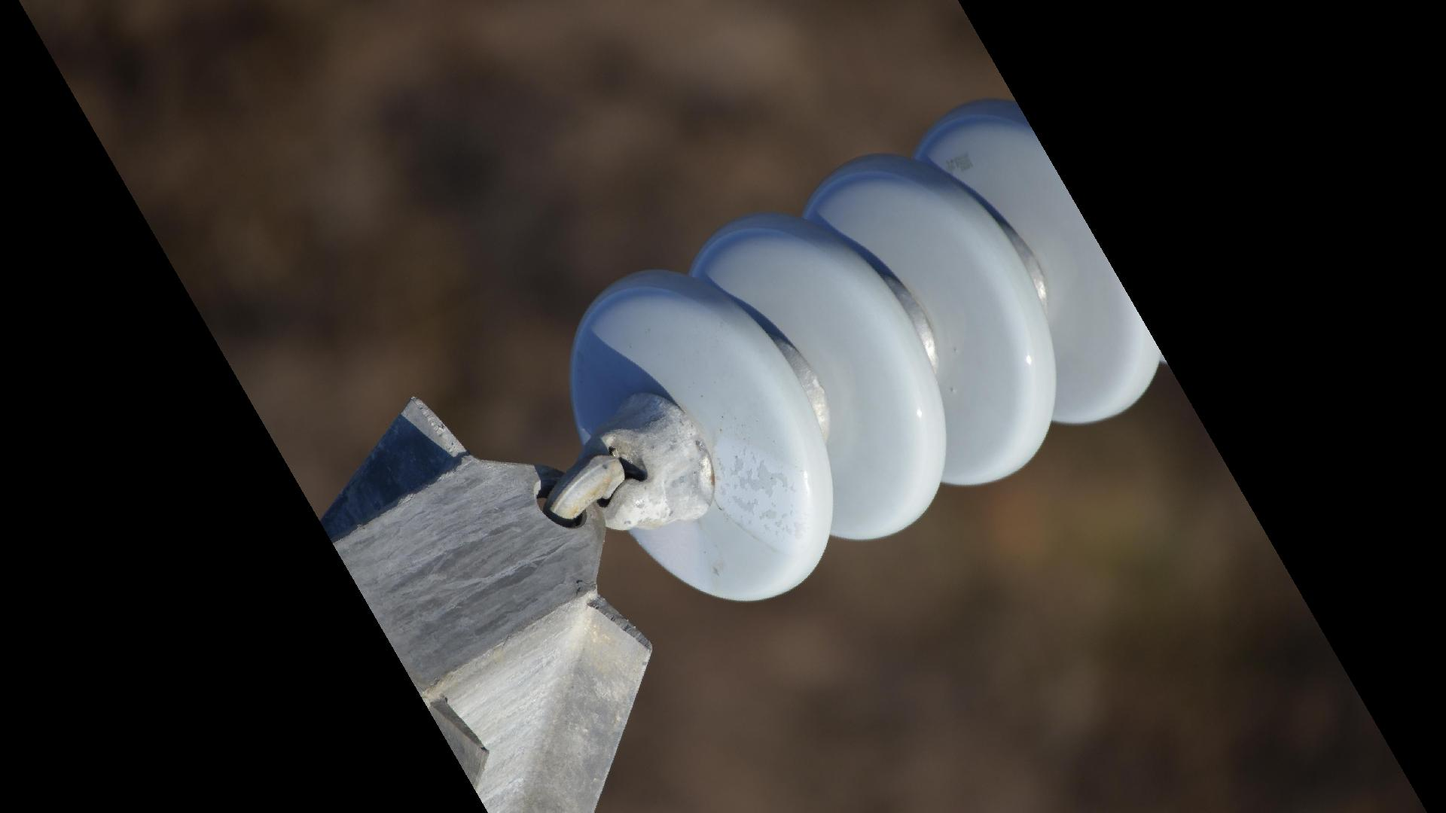insulator: (561, 88, 1172, 611)
insulator_flashover: (705, 431, 821, 561)
